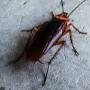cockroach: (24, 10, 71, 62)
